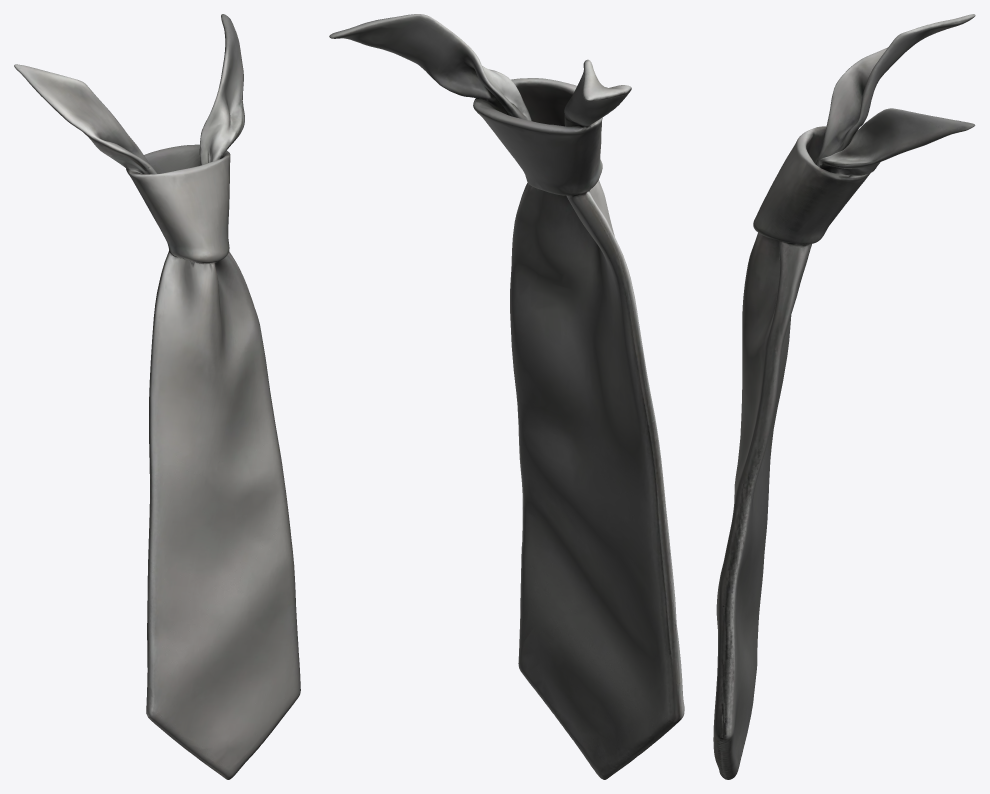
File: tie.glb
The picture shows the model from 3 angles, left to right: view 1: azimuth 30°, elevation 25°; view 2: azimuth 150°, elevation 25°; view 3: azimuth 270°, elevation 25°; orthographic projection. The views are drawn at different scales.
Visible parts, largest first — view 1: tripo_node_481127be; view 2: tripo_node_481127be; view 3: tripo_node_481127be.
Part boxes in pixels (x1,y1,x2,y2): tripo_node_481127be: (14,14,300,779); tripo_node_481127be: (329,14,684,779); tripo_node_481127be: (713,14,975,779).
Bounding box in the file's own units: 33.17 × 97.89 × 32.59.
1 material, 1 textured.
